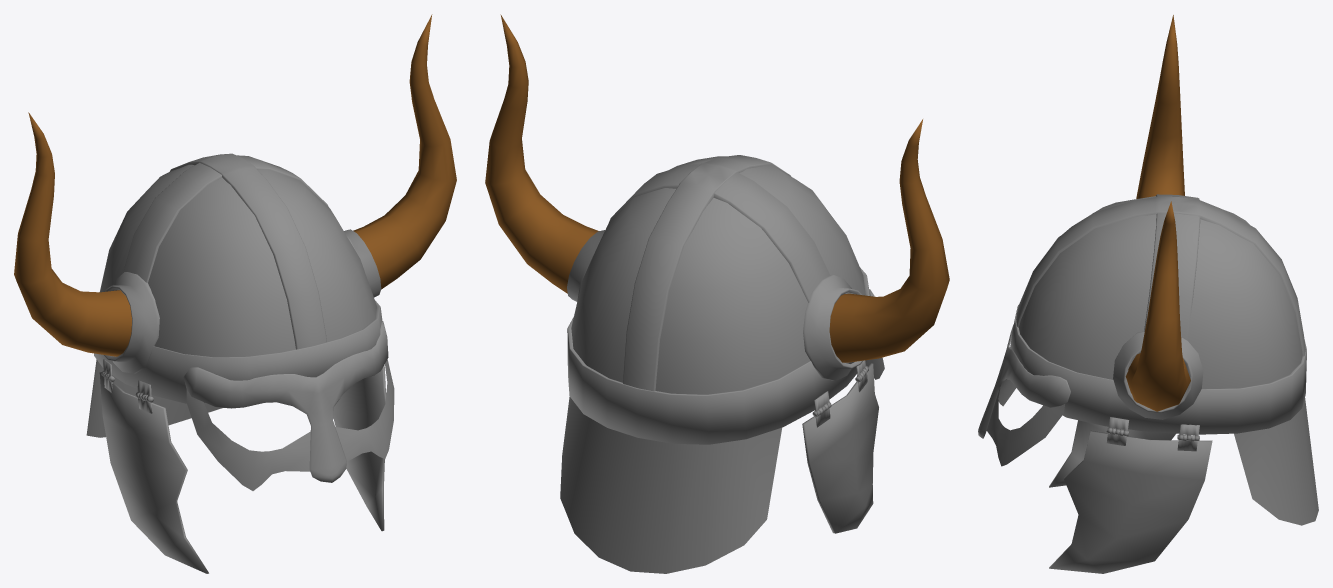
The model's file is helmet.obj.
3 views of the same model, side by side, from view 1: azimuth 30°, elevation 25°; view 2: azimuth 150°, elevation 25°; view 3: azimuth 270°, elevation 25° (orthographic). The views are drawn at different scales.
Parts seen in each view (by area): view 1: horn_carriage_left, horn_right; view 2: horn_carriage_left, horn_right; view 3: horn_carriage_left, horn_right.
Part boxes in pixels (left/top/right/bottom): horn_carriage_left: left=86, top=153, right=394, bottom=573; horn_right: left=14, top=14, right=456, bottom=356; horn_carriage_left: left=560, top=155, right=884, bottom=573; horn_right: left=485, top=14, right=949, bottom=362; horn_carriage_left: left=978, top=194, right=1318, bottom=573; horn_right: left=1125, top=15, right=1190, bottom=411.
Size of the model in its own units: 37 by 35.78 by 26.31.
